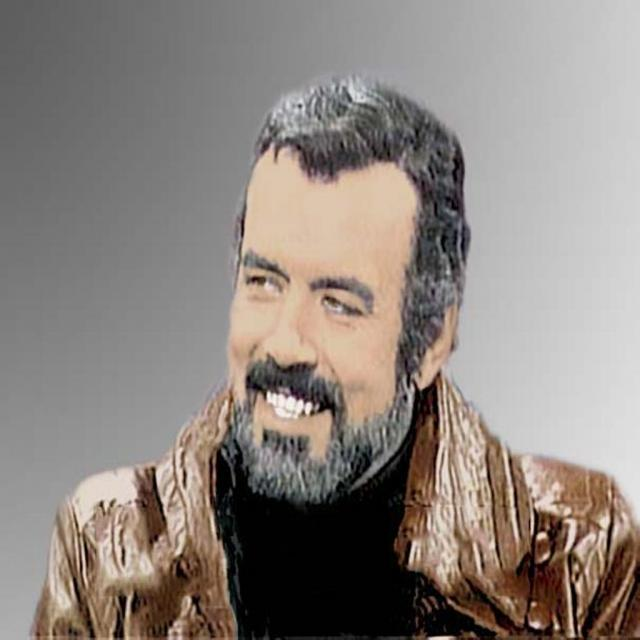nomask: (228, 150, 412, 482)
